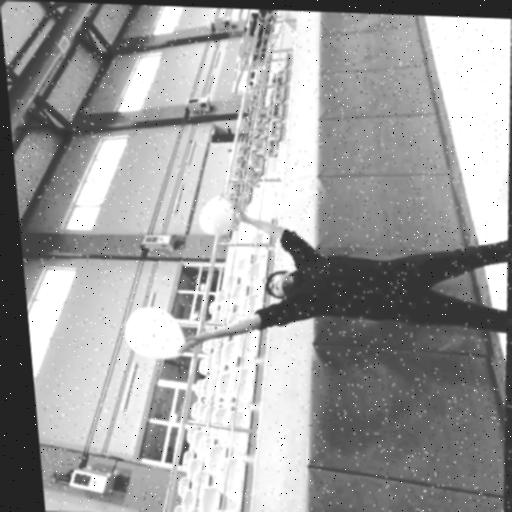balloon: (127, 306, 197, 360), (200, 194, 242, 236)
